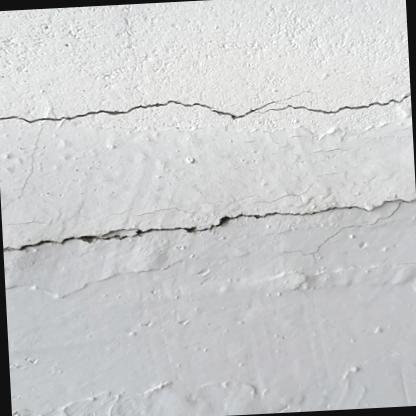crack: (2, 213, 240, 251), (0, 100, 275, 122), (248, 196, 416, 220), (257, 92, 410, 113)
